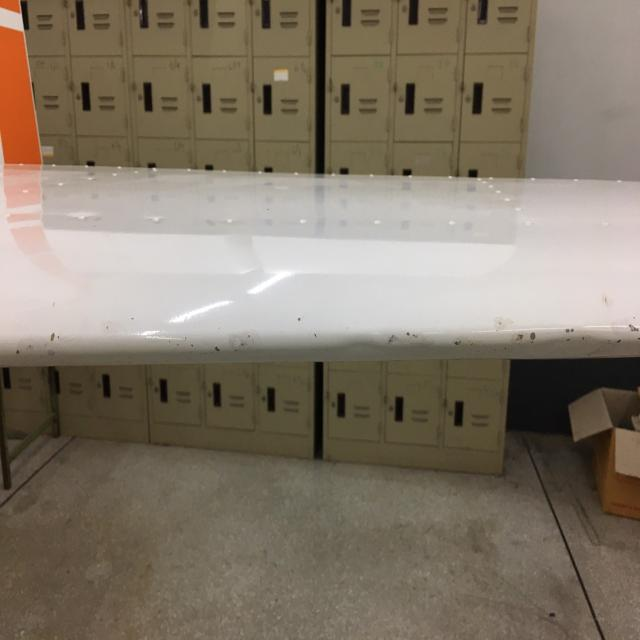Rupture: (0, 294, 640, 374)
